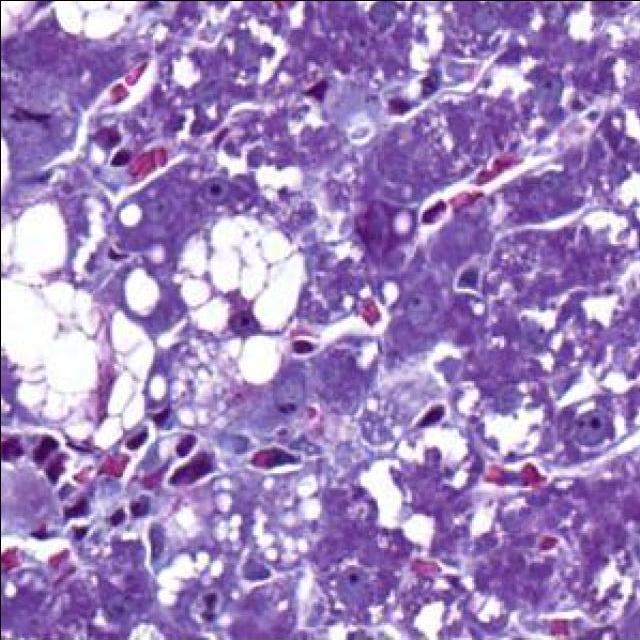ballooning: (174, 215, 306, 332), (4, 278, 98, 420), (94, 310, 155, 448), (54, 0, 137, 39)
